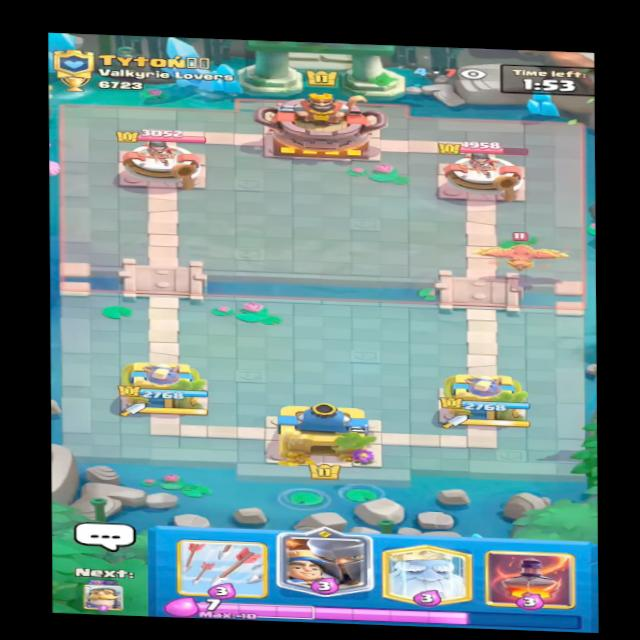phoenix: (473, 228, 578, 278)
